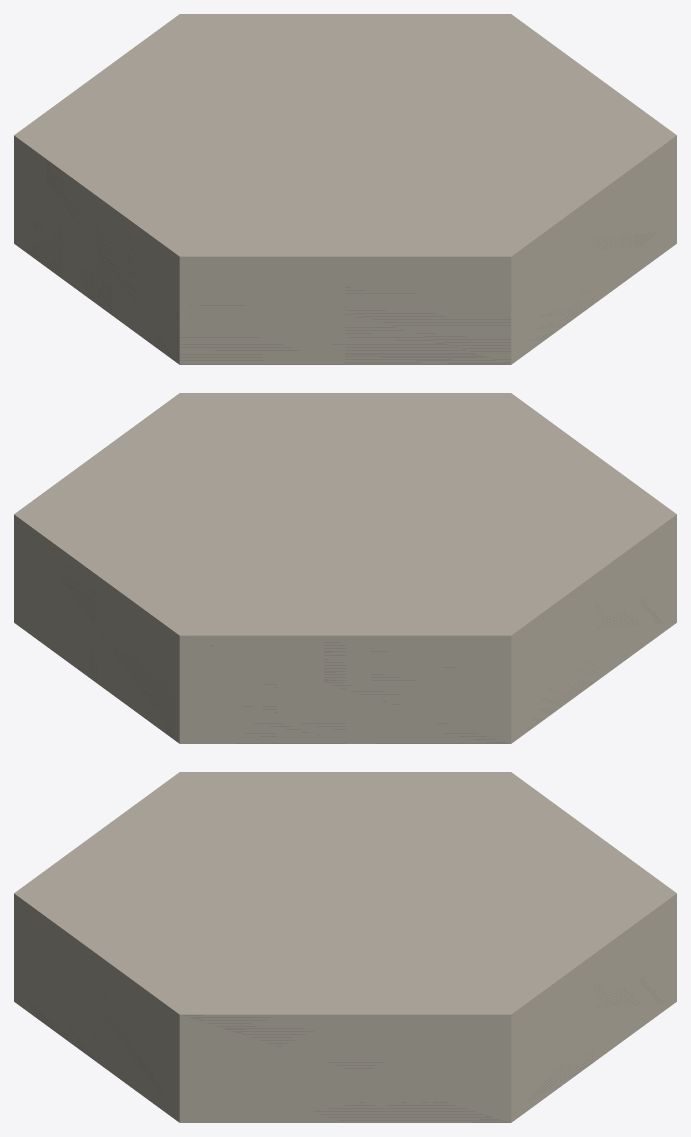
File: arena.glb
3 views of the same model, one above another, from view 1: azimuth 30°, elevation 25°; view 2: azimuth 150°, elevation 25°; view 3: azimuth 270°, elevation 25° (orthographic).
Visible parts, largest first — view 1: Cylinder; view 2: Cylinder; view 3: Cylinder.
Part boxes in pixels (x1,y1,x2,y2): Cylinder: (14, 14, 676, 364); Cylinder: (14, 393, 676, 743); Cylinder: (14, 772, 676, 1122).
Size of the model in its own units: 39.54 by 8.23 by 45.66.
2 materials, 1 textured.
